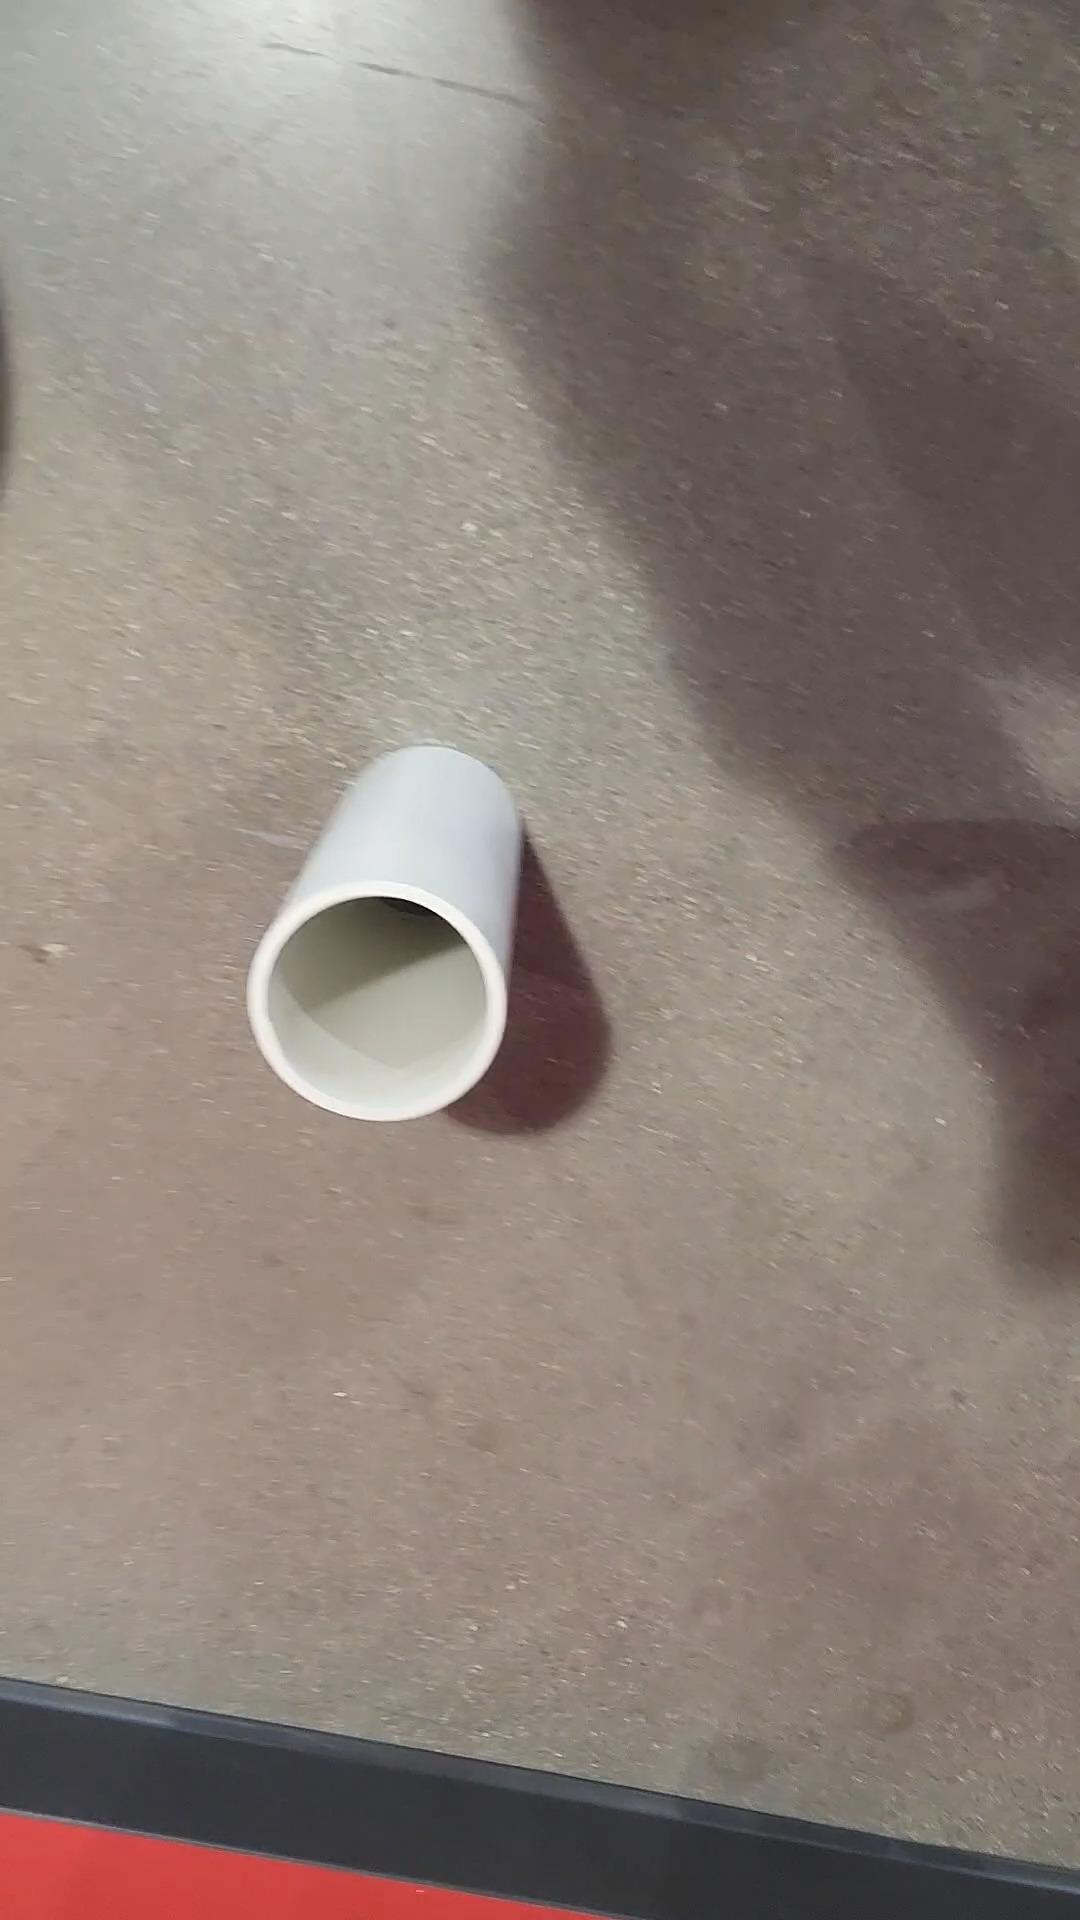coral: (252, 745, 522, 1120)
